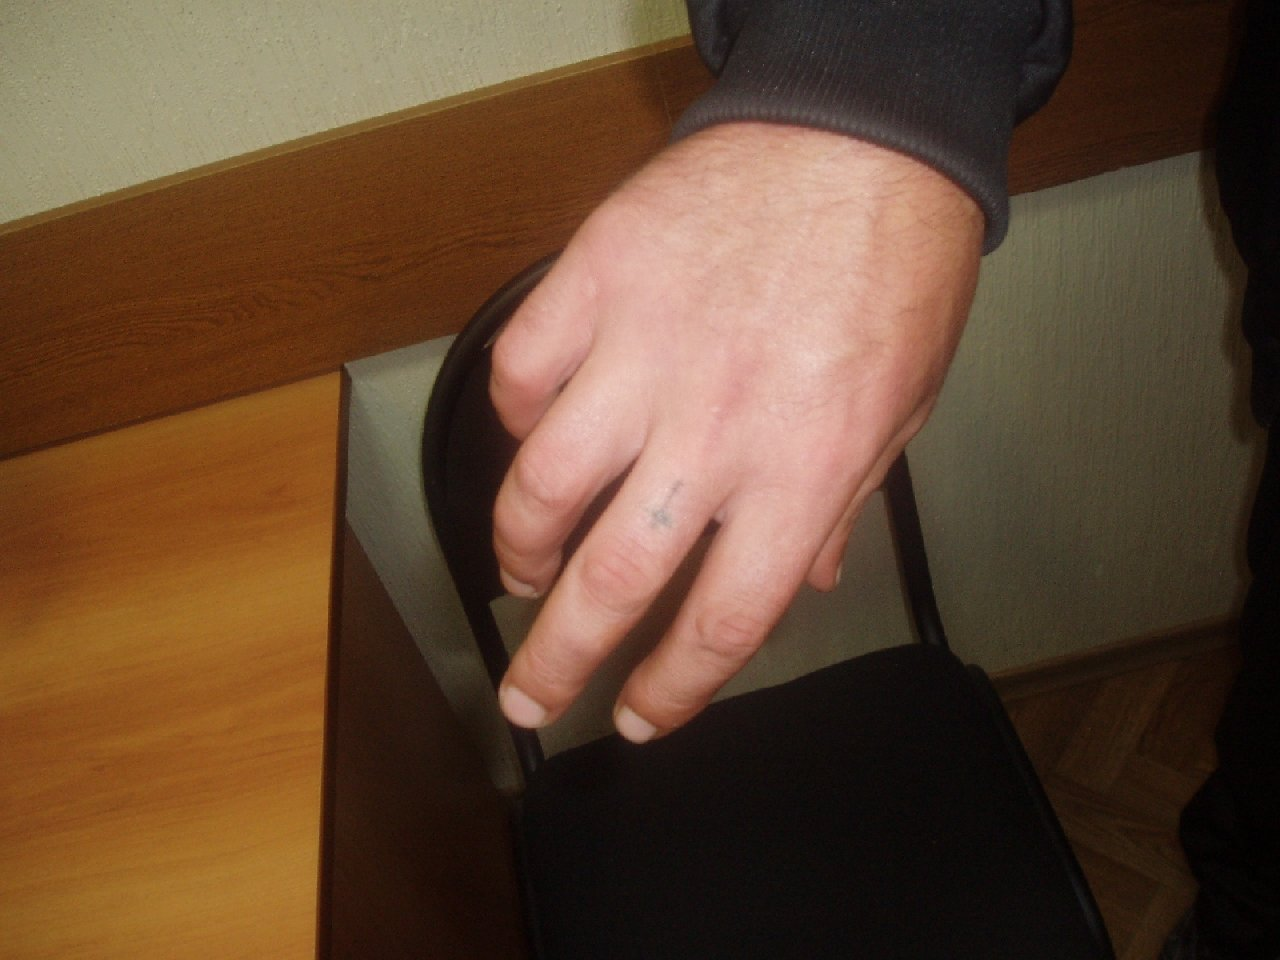tatu9_krest: (652, 472, 691, 534)
